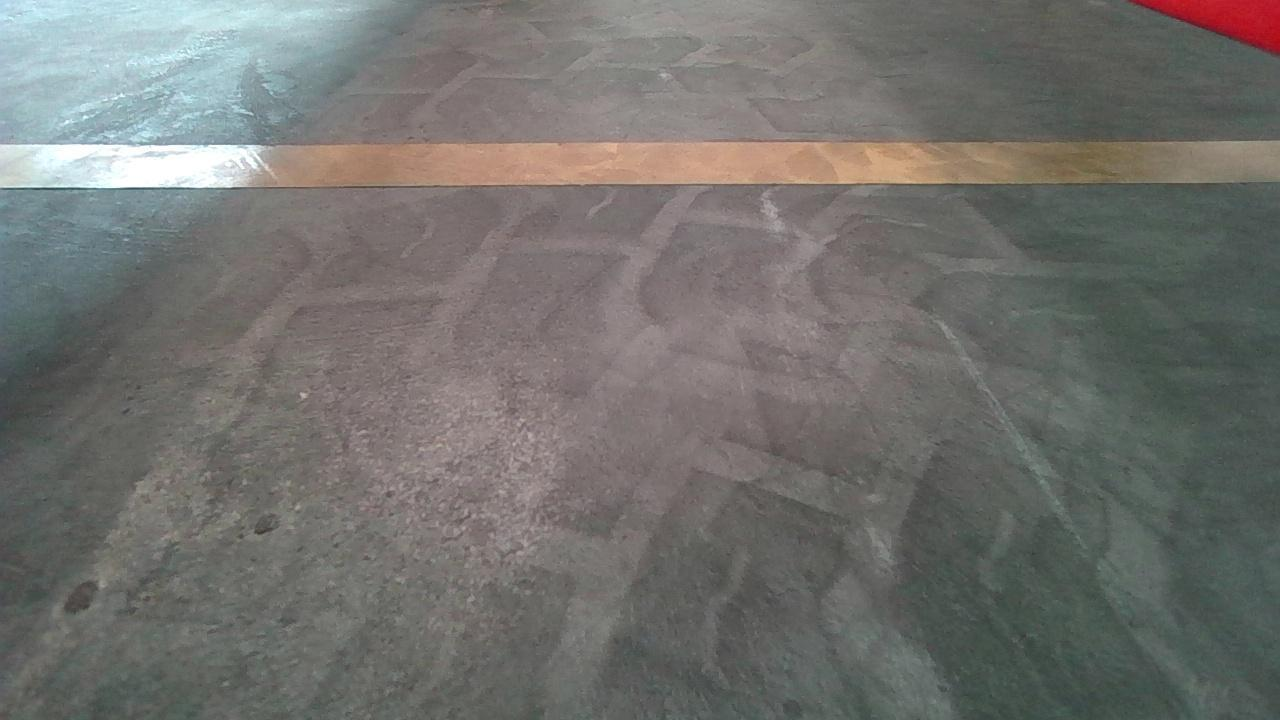yellow_line: (4, 128, 1280, 194)
